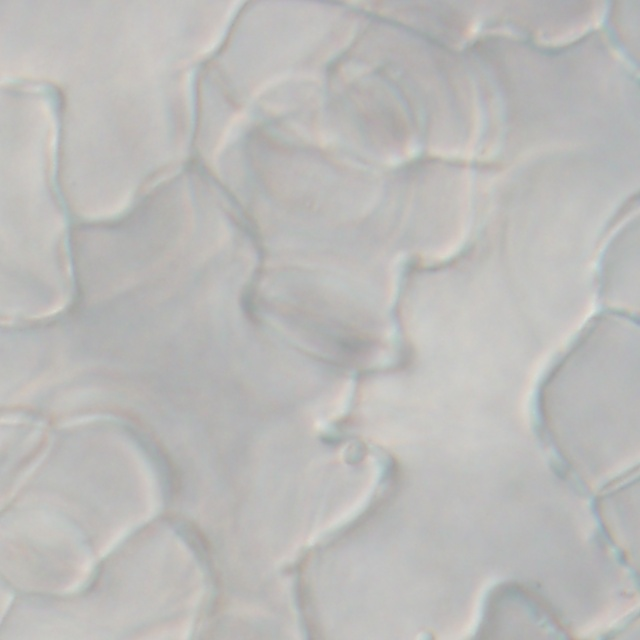center: (282, 310, 360, 330)
stomata-huw1: (234, 257, 408, 383)
